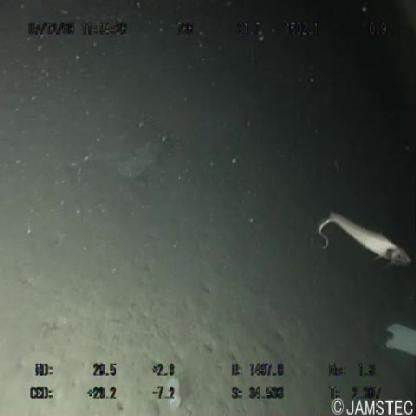Bio: (314, 209, 414, 280)
Rác: (383, 314, 415, 358)
